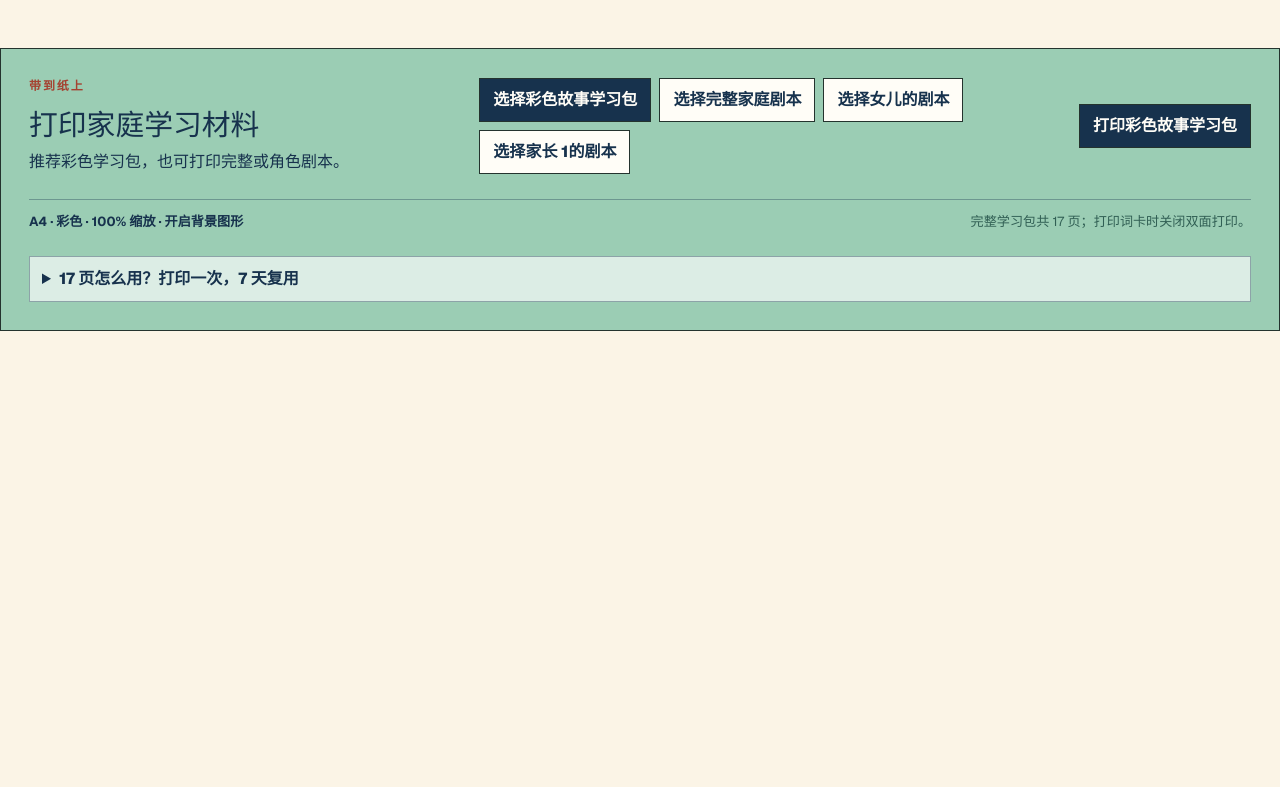
StoryStage family story flow › shows browser-menu fallback instructions when printing is unavailable or fails
Click the button "选择完整家庭剧本": [737, 100] box left=659, top=78, right=815, bottom=122
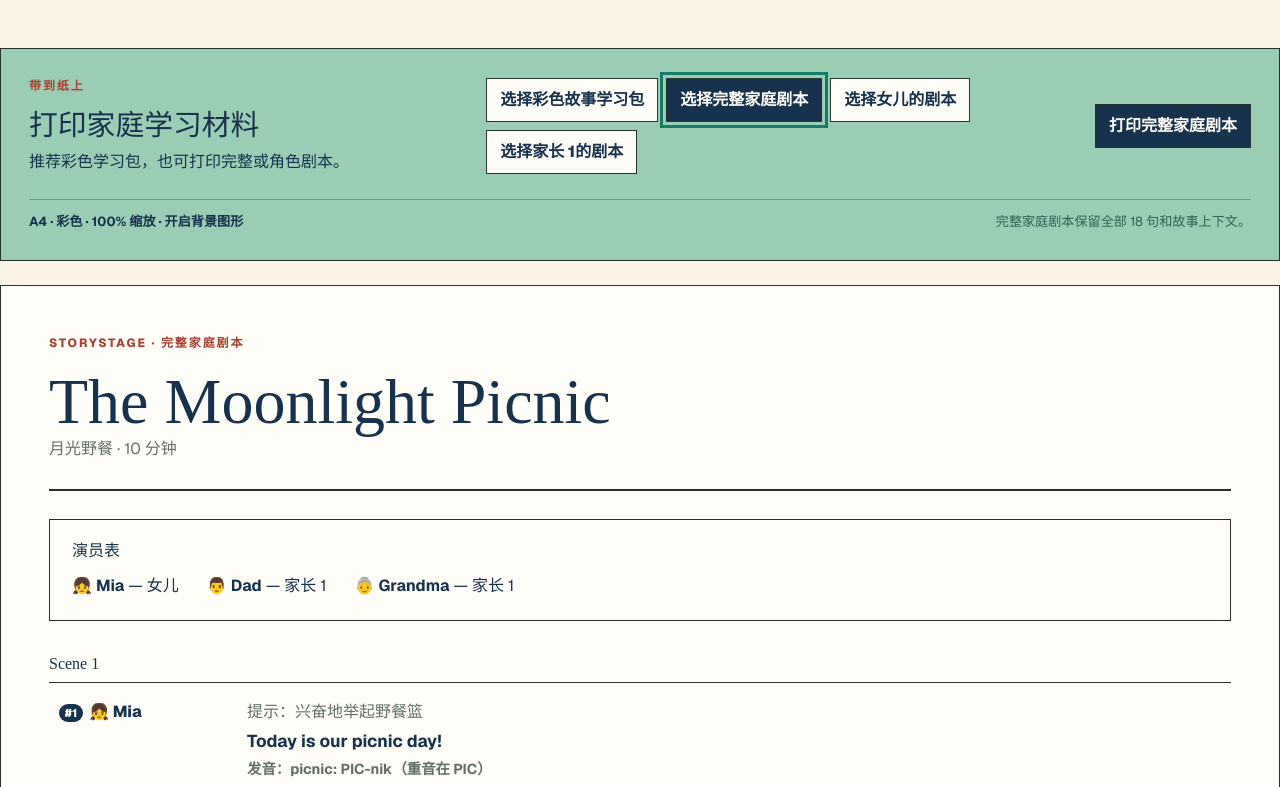
Click the button "打印完整家庭剧本": [1173, 126] box left=1095, top=104, right=1251, bottom=148
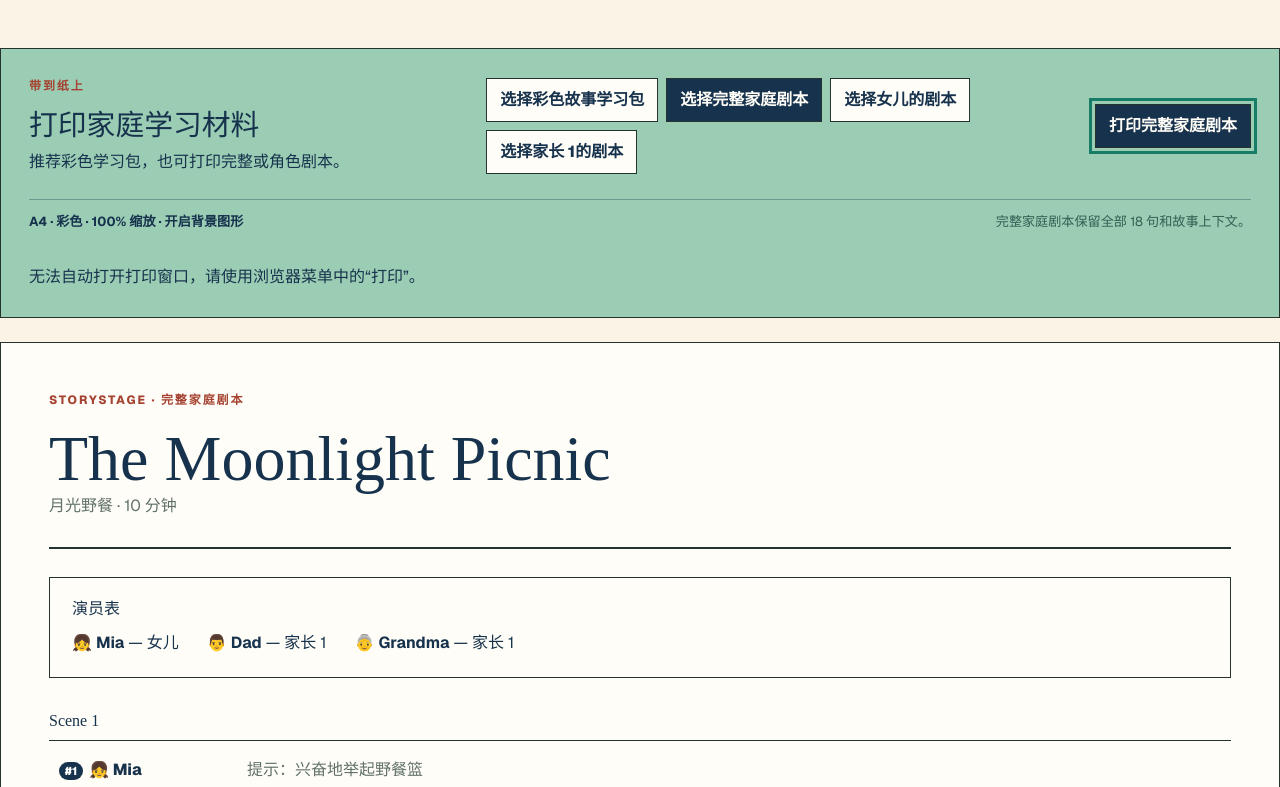
Expected: the message shows "浏览器菜单", left=29, top=266, right=425, bottom=287
